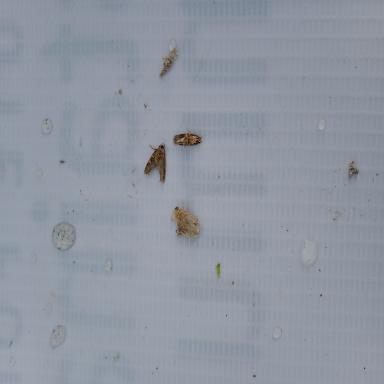pbw: (144, 141, 170, 184), (170, 207, 200, 234), (158, 46, 176, 78), (172, 133, 203, 144)
